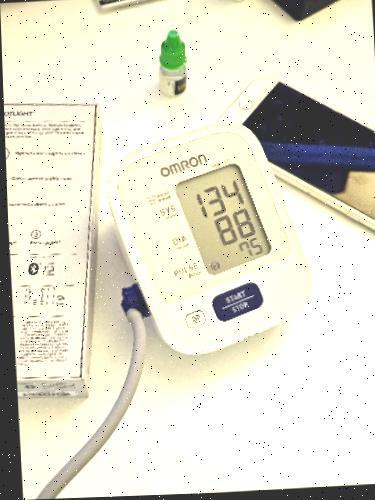bpm: (173, 159, 274, 279)
